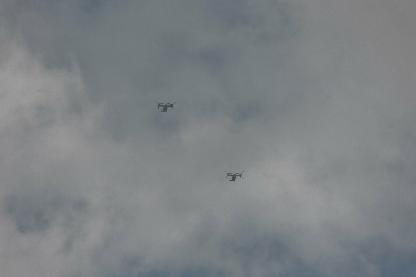Tornado: (154, 99, 176, 112), (224, 169, 244, 181)
